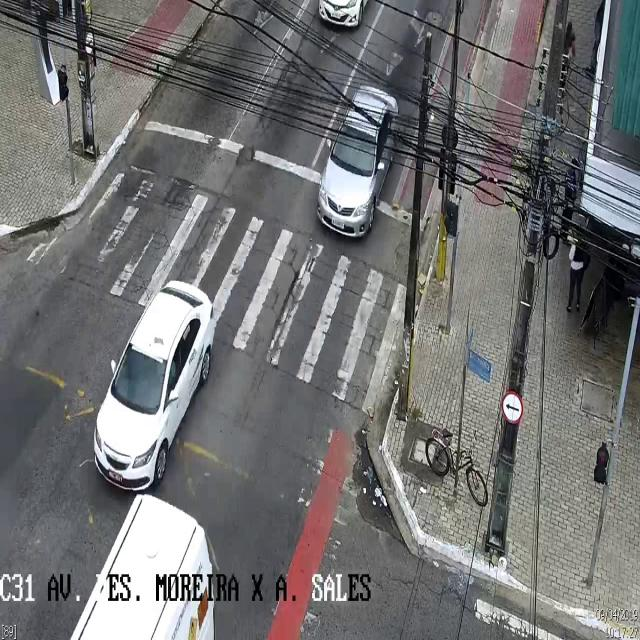Car: (93, 281, 215, 490), (318, 83, 398, 238), (320, 0, 372, 30)
